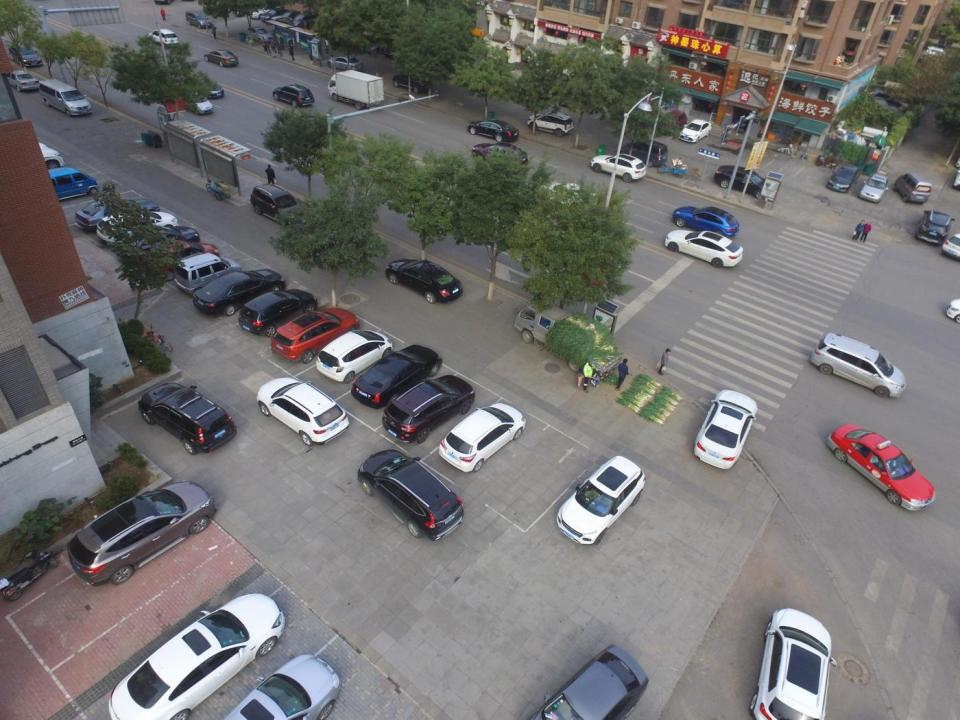car: (103, 594, 284, 720), (68, 478, 218, 586), (357, 448, 464, 542), (524, 642, 649, 720), (827, 424, 935, 514), (749, 606, 833, 720), (220, 653, 344, 720), (555, 458, 645, 546), (140, 382, 237, 455), (256, 376, 350, 446), (812, 332, 908, 399), (440, 403, 530, 473), (382, 375, 474, 442), (351, 345, 441, 407), (694, 389, 757, 471), (272, 309, 358, 364), (192, 267, 286, 317), (316, 330, 392, 380), (385, 257, 463, 305), (238, 288, 318, 334), (97, 207, 176, 250), (124, 224, 198, 266), (664, 230, 743, 269), (76, 197, 160, 232), (6, 142, 62, 190), (146, 240, 218, 277), (672, 205, 738, 243), (546, 178, 602, 221), (251, 184, 302, 226), (715, 165, 770, 200), (472, 140, 528, 173), (592, 154, 645, 183), (917, 209, 952, 244), (624, 139, 666, 168), (527, 110, 573, 136), (468, 121, 518, 143), (273, 82, 315, 108), (826, 163, 860, 193), (393, 71, 431, 95), (8, 42, 43, 68), (860, 174, 890, 202), (678, 120, 712, 144), (3, 68, 37, 92), (180, 92, 214, 116), (203, 48, 240, 70), (192, 74, 224, 99), (286, 11, 326, 31), (657, 110, 687, 134), (329, 54, 362, 74), (914, 44, 946, 64), (149, 30, 179, 49), (244, 26, 274, 45), (273, 9, 306, 26), (185, 9, 213, 29), (941, 231, 959, 261), (247, 3, 282, 18), (261, 7, 294, 22)
truck: (511, 303, 618, 377), (328, 69, 384, 111)
van: (30, 166, 96, 210), (173, 254, 240, 296), (37, 79, 92, 117), (894, 174, 931, 205)
